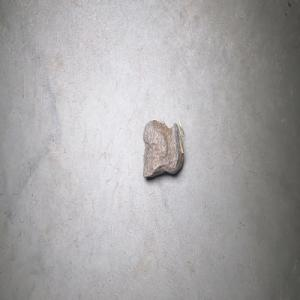Rock: (142, 116, 184, 178)
